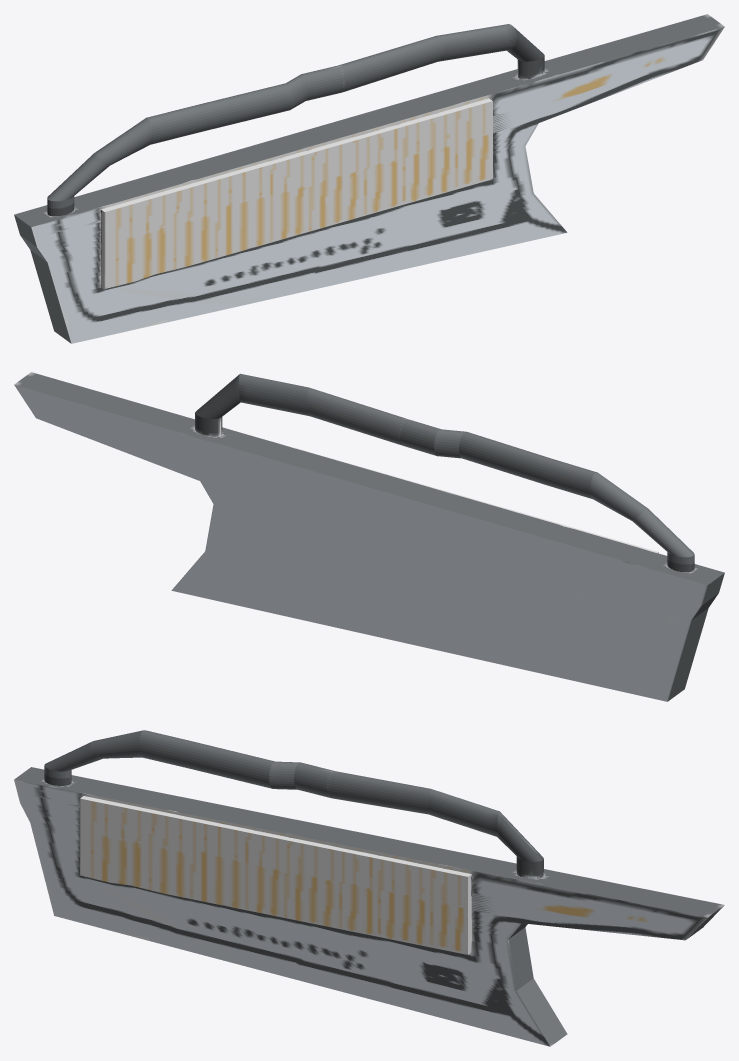
The model's file is 3dmhazim3.fbx.
The picture shows the model from 3 angles, top to bottom: view 1: azimuth 30°, elevation 25°; view 2: azimuth 150°, elevation 25°; view 3: azimuth 330°, elevation 25°; orthographic projection.
Visible parts, largest first — view 1: keytar.005; view 2: keytar.005; view 3: keytar.005.
Part boxes in pixels (<box>): keytar.005: <box>14,14,724,343</box>; keytar.005: <box>14,372,724,701</box>; keytar.005: <box>14,730,724,1046</box>.
Bounding box in the file's own units: 1.12 × 0.3438 × 0.0585.
